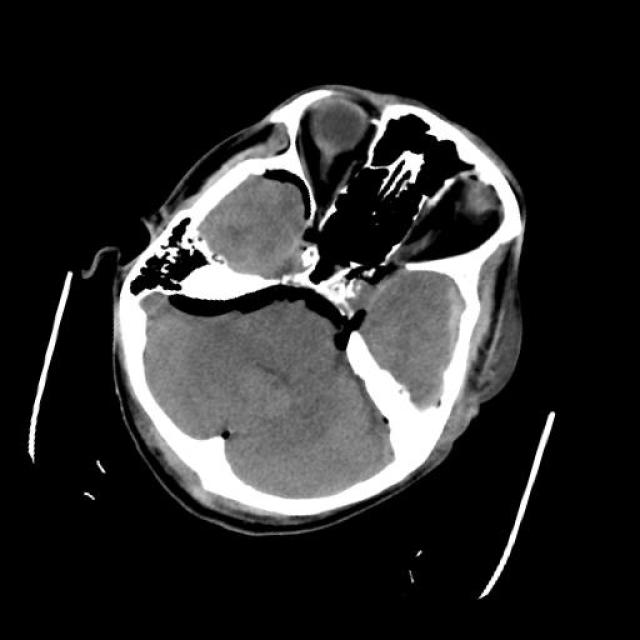Subdural: (415, 278, 495, 384)
